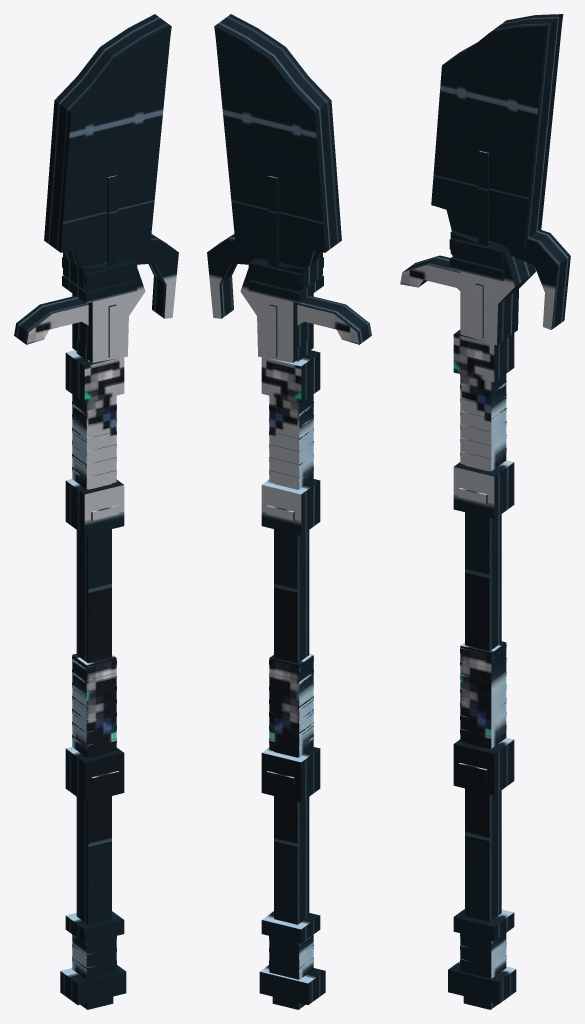
File: durasteel_glaive.obj
3 views of the same model, side by side, from view 1: azimuth 30°, elevation 25°; view 2: azimuth 150°, elevation 25°; view 3: azimuth 330°, elevation 25° (orthographic). The views are drawn at different scales.
Bounding box in the file's own units: 0.3303 × 2 × 0.0921.
